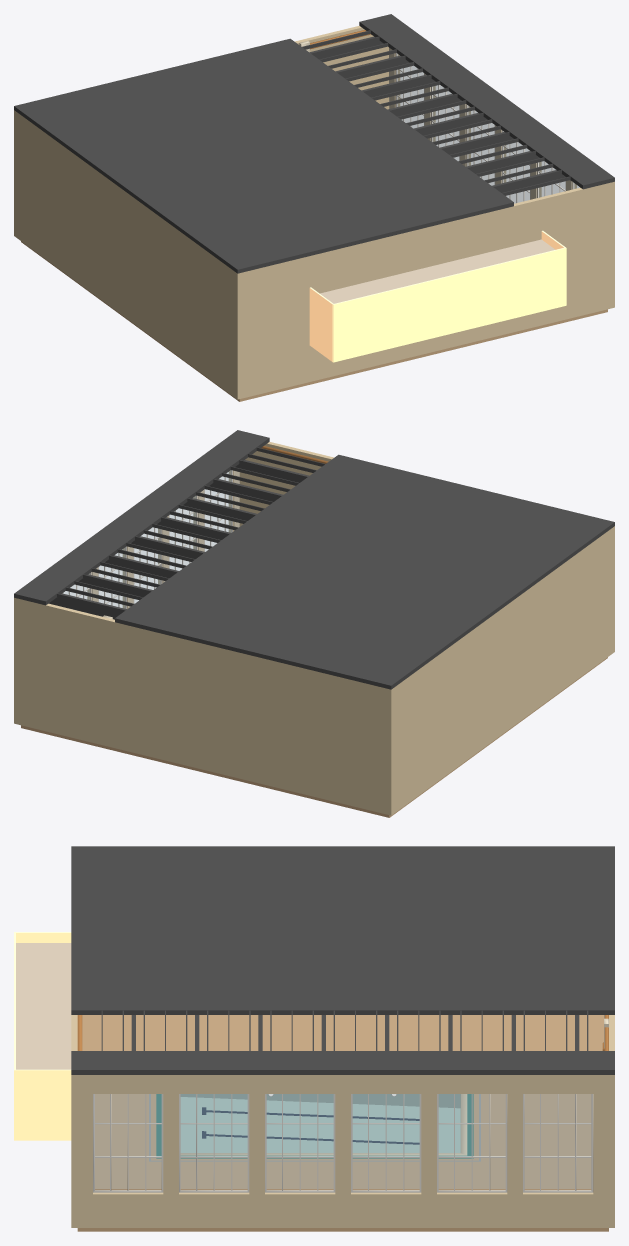
The model's file is club_shell.glb.
The picture shows the model from 3 angles, top to bottom: view 1: azimuth 30°, elevation 25°; view 2: azimuth 150°, elevation 25°; view 3: azimuth 270°, elevation 25°; orthographic projection. The views are drawn at different scales.
Parts seen in each view (by area): view 1: ShadowOnly_Merged, ClubShellMesh, Keep_NearWall, Glass_Merged; view 2: ShadowOnly_Merged, ClubShellMesh, Keep_NearWall, Glass_Merged; view 3: ClubShellMesh, ShadowOnly_Merged, Glass_Merged.
Boxes of the visible parts, bbox=[...] form: ShadowOnly_Merged: bbox=[14, 14, 614, 273]; ClubShellMesh: bbox=[14, 25, 614, 401]; Keep_NearWall: bbox=[14, 112, 241, 398]; Glass_Merged: bbox=[397, 54, 579, 203]; ShadowOnly_Merged: bbox=[14, 430, 614, 689]; ClubShellMesh: bbox=[14, 441, 614, 817]; Keep_NearWall: bbox=[387, 526, 614, 815]; Glass_Merged: bbox=[63, 470, 231, 608]; ClubShellMesh: bbox=[14, 932, 614, 1231]; ShadowOnly_Merged: bbox=[71, 846, 614, 1074]; Glass_Merged: bbox=[95, 1094, 590, 1190].
Bounding box in the file's own units: 30.1 × 11.75 × 34.16.
